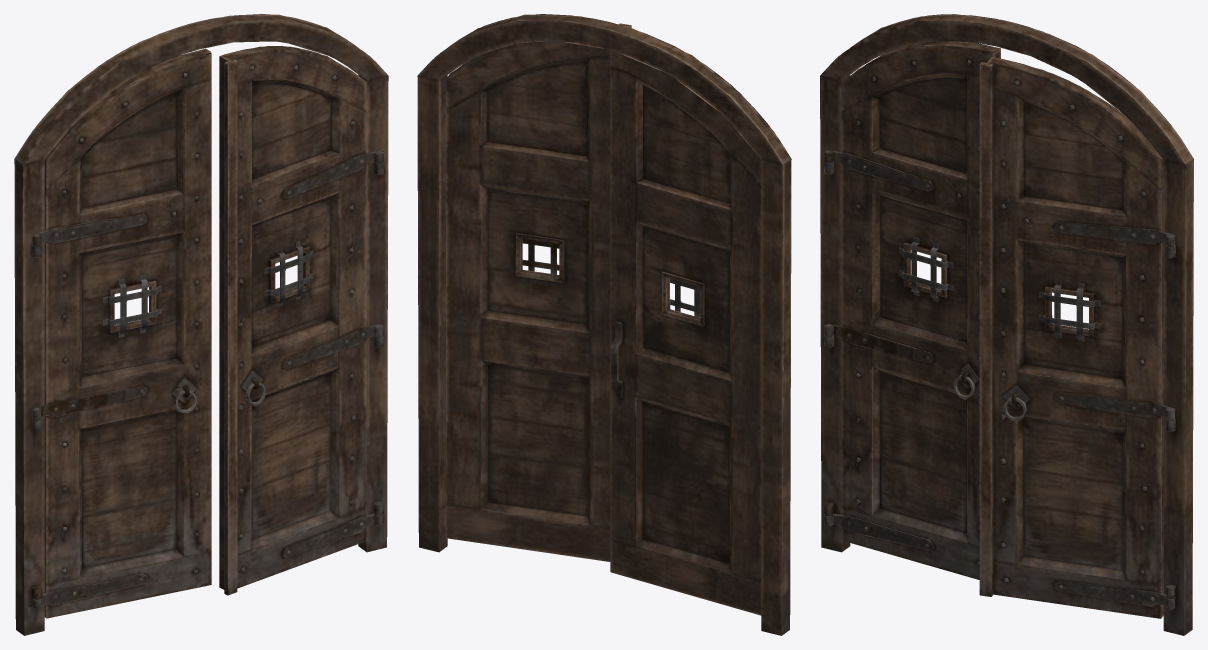
Rendered from ph_large_castle_door.glb.
3 views of the same model, side by side, from view 1: azimuth 30°, elevation 25°; view 2: azimuth 150°, elevation 25°; view 3: azimuth 330°, elevation 25° (orthographic).
Visible parts, largest first — view 1: large_castle_door_frame; view 2: large_castle_door_frame; view 3: large_castle_door_frame.
Part boxes in pixels (<box>): large_castle_door_frame: <box>14,14,388,635</box>; large_castle_door_frame: <box>417,14,791,635</box>; large_castle_door_frame: <box>820,14,1193,635</box>.
Size of the model in its own units: 2.01 by 2.96 by 0.2962.
1 material, 1 textured.
